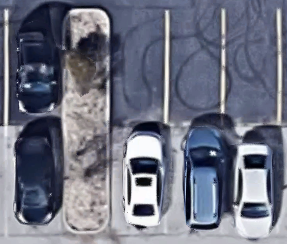Occupied: (6, 9, 62, 126), (222, 124, 280, 232), (109, 124, 165, 233), (166, 124, 222, 233), (6, 127, 62, 233)
Vacant: (222, 9, 280, 125), (166, 9, 223, 124), (109, 11, 167, 123)
